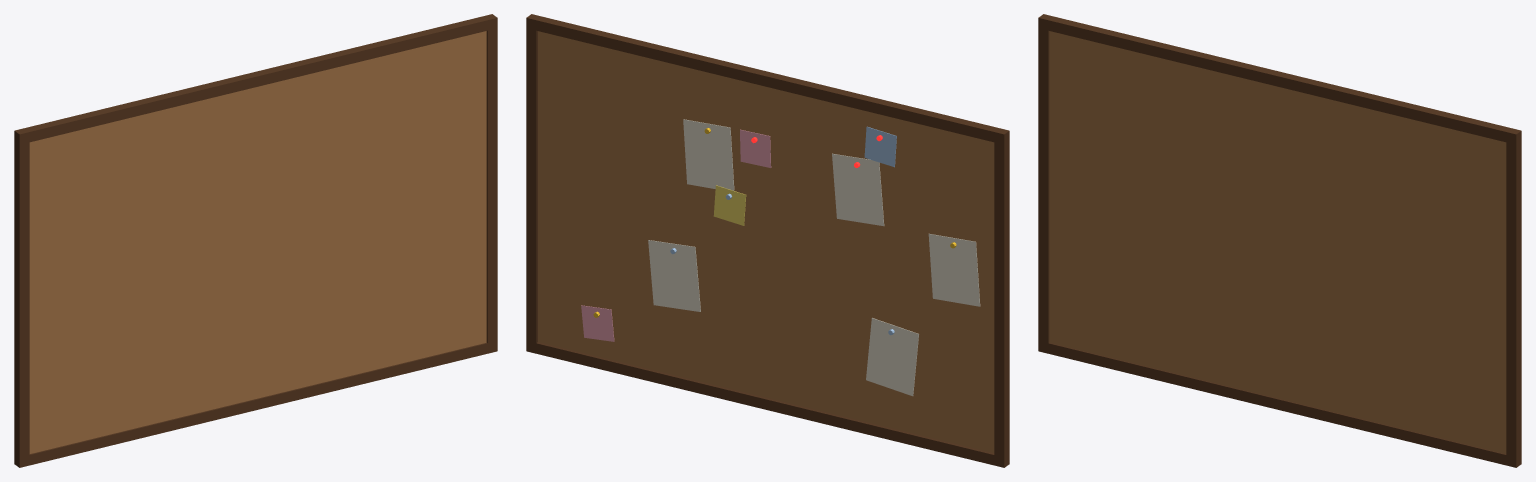
The model's file is SM_80s_BulletinBoard.glb.
3 views of the same model, side by side, from view 1: azimuth 30°, elevation 25°; view 2: azimuth 150°, elevation 25°; view 3: azimuth 330°, elevation 25° (orthographic).
Parts seen in each view (by area): view 1: SM_80s_BulletinBoard; view 2: SM_80s_BulletinBoard; view 3: SM_80s_BulletinBoard.
Boxes of the visible parts, x1,y1,x2,y2 form: SM_80s_BulletinBoard: [14, 14, 497, 467]; SM_80s_BulletinBoard: [526, 14, 1009, 467]; SM_80s_BulletinBoard: [1038, 14, 1521, 467].
Size of the model in its own units: 1.58 by 1.06 by 0.0481.
